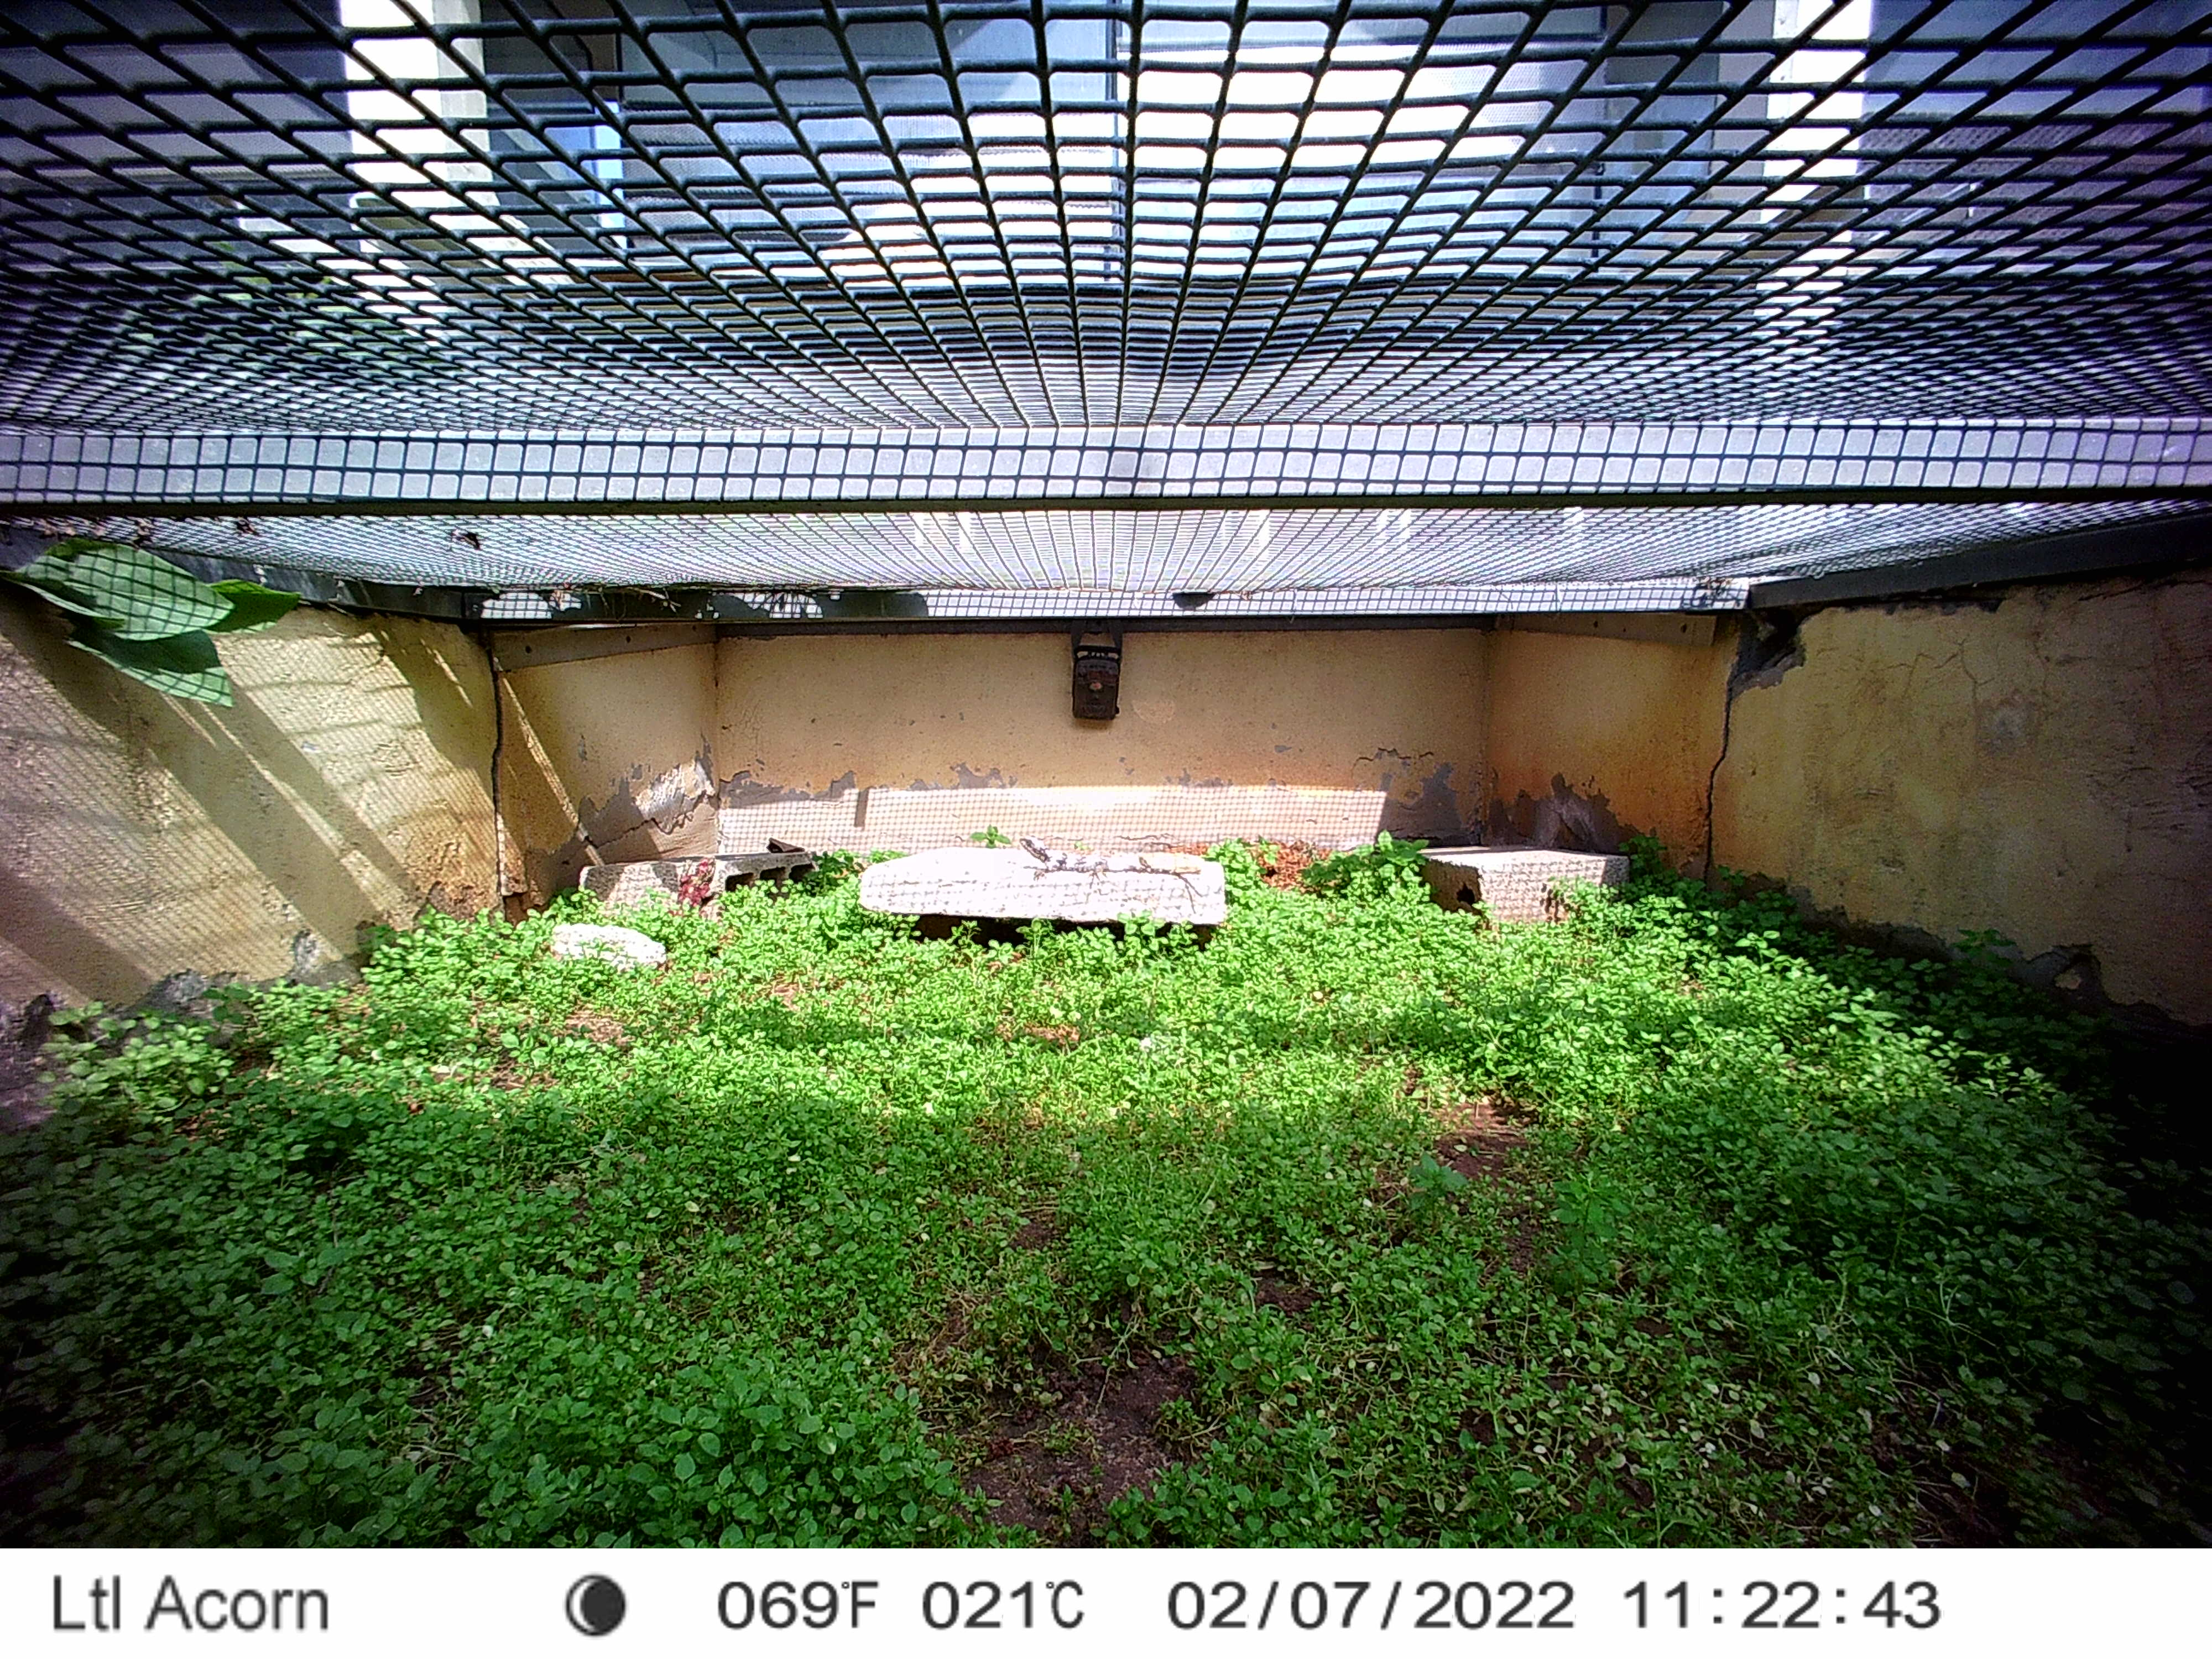lizard: (1014, 830, 1216, 899), (665, 850, 732, 915)
